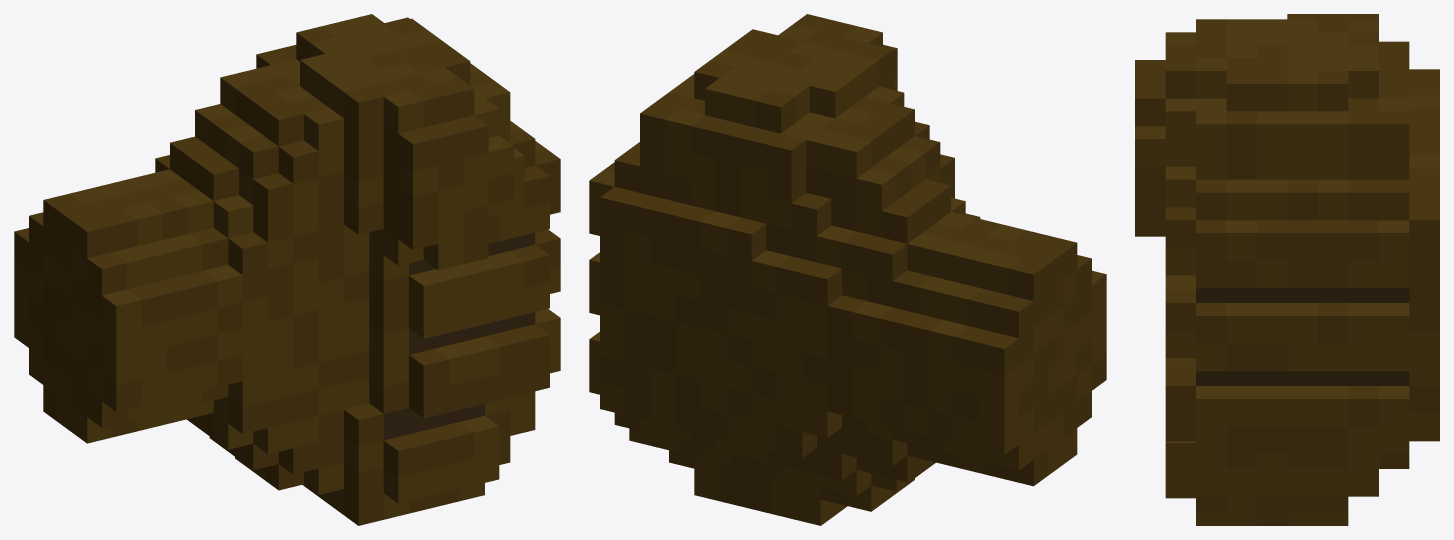
File: start_end-0.obj
3 renders of one model, left to right at view 1: azimuth 30°, elevation 25°; view 2: azimuth 150°, elevation 25°; view 3: azimuth 270°, elevation 25°, orthographic. The views are drawn at different scales.
Bounding box in the file's own units: 1.7 × 1.6 × 1.
Materials: 1 (1 with a texture image).
